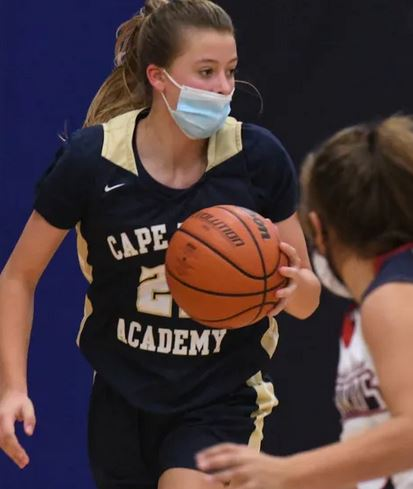with_incorrect_mask: (166, 49, 236, 130)
